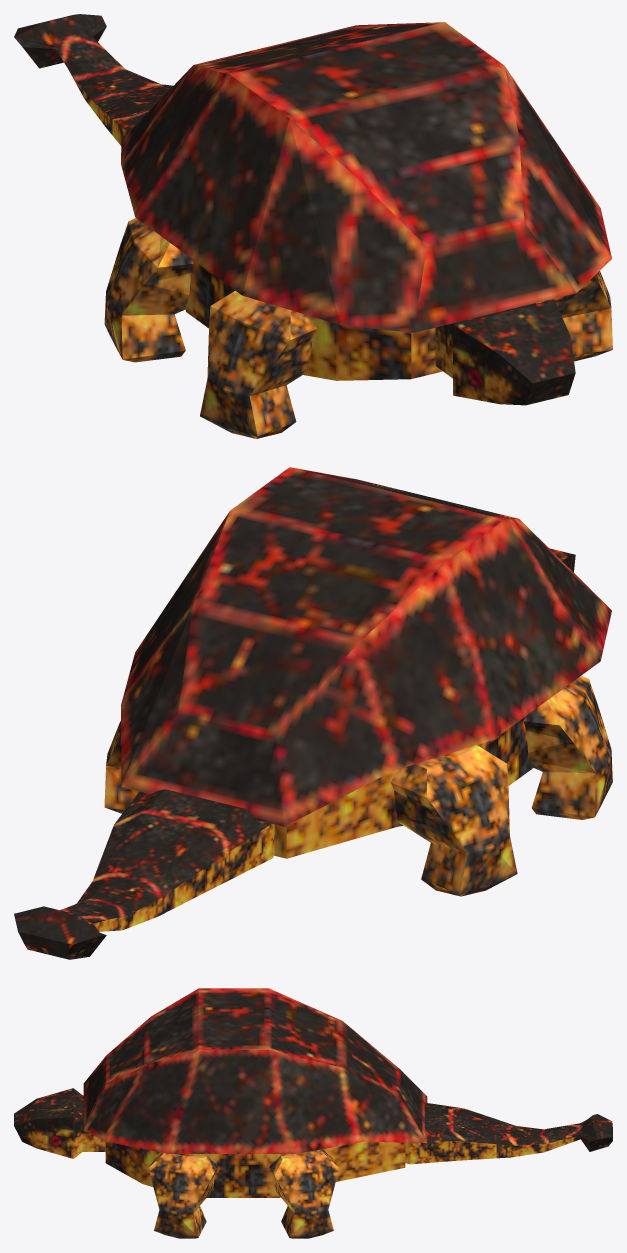
The model's file is khalk.obj.
3 views of the same model, one above another, from view 1: azimuth 30°, elevation 25°; view 2: azimuth 150°, elevation 25°; view 3: azimuth 270°, elevation 25° (orthographic). The views are drawn at different scales.
Visible parts, largest first — view 1: Body, LegRightFront, Head, LegRightBack, Tail, LegLeftFront; view 2: Body, Tail, LegRightBack, LegRightFront, LegLeftBack; view 3: Body, Tail, LegLeftBack, LegLeftFront, Head.
Part boxes in pixels (x1=…): Body: x1=121, y1=22, x2=611, y2=380; LegRightFront: x1=200, y1=290, x2=316, y2=438; Head: x1=435, y1=300, x2=575, y2=405; LegRightBack: x1=104, y1=218, x2=193, y2=362; Tail: x1=14, y1=14, x2=173, y2=145; LegLeftFront: x1=553, y1=271, x2=612, y2=361; Body: x1=121, y1=467, x2=611, y2=858; Tail: x1=14, y1=789, x2=274, y2=959; LegRightBack: x1=390, y1=745, x2=517, y2=896; LegRightFront: x1=523, y1=675, x2=612, y2=819; LegLeftBack: x1=104, y1=721, x2=139, y2=813; Body: x1=83, y1=988, x2=427, y2=1197; Tail: x1=405, y1=1103, x2=612, y2=1164; LegLeftBack: x1=269, y1=1149, x2=338, y2=1238; LegLeftFront: x1=148, y1=1153, x2=218, y2=1238; Head: x1=14, y1=1088, x2=105, y2=1158.
Size of the model in its own units: 5.82 by 4 by 13.
